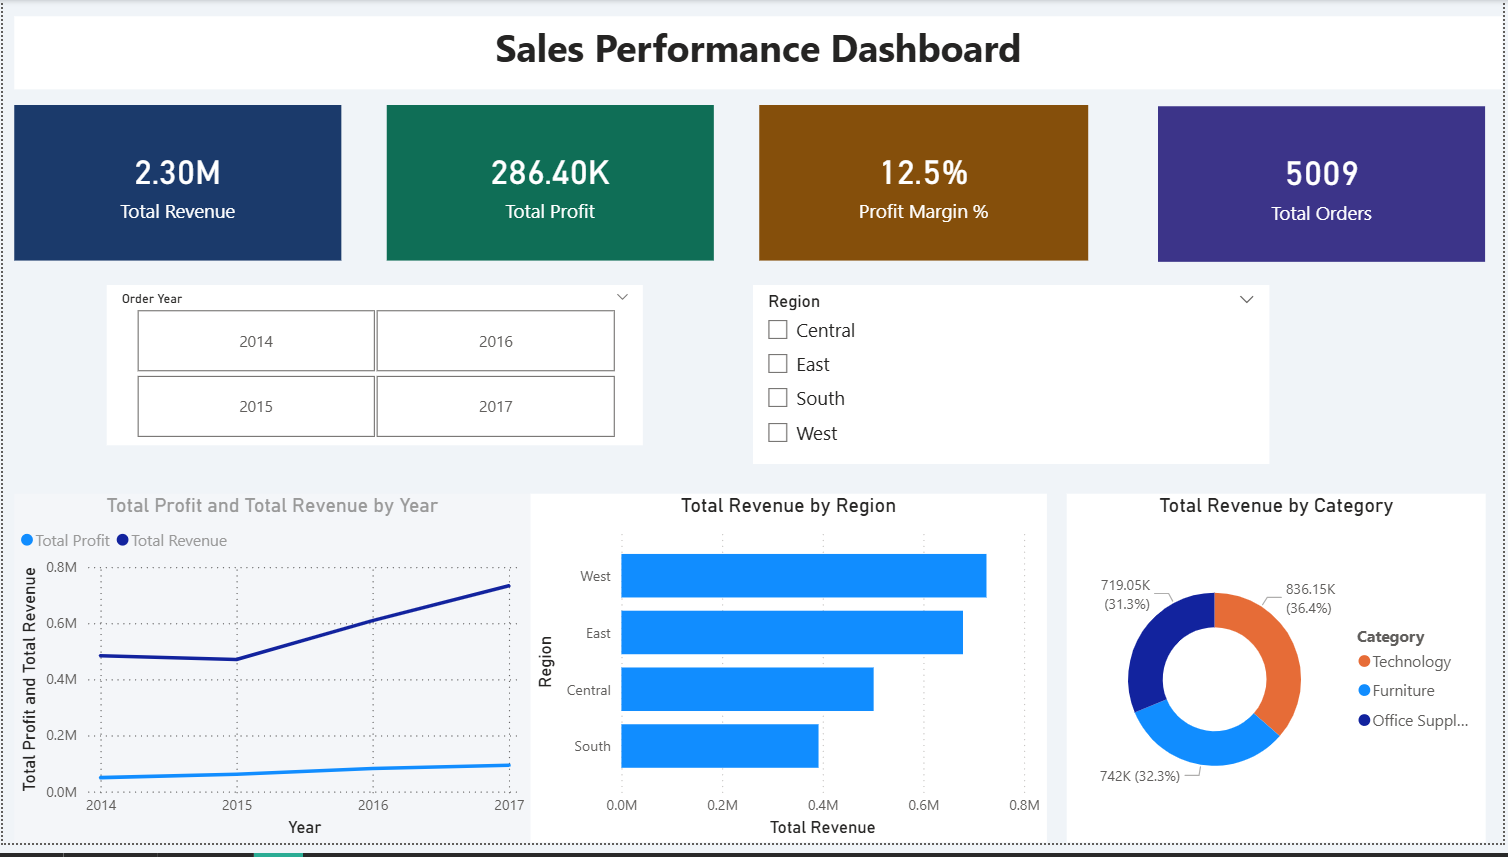

The dashboard page shown, as its layout file describes it:
{"tool":"powerbi","page":{"name":"Page 1","canvas":[1280,720],"ordinal":0},"visuals":[{"type":"card","fields":{"Values":["superstore_clean.Total Revenue"]},"box":[10,89.8,279.4,132.6],"z":0},{"type":"card","fields":{"Values":["superstore_clean.Total Profit"]},"box":[327.8,89.8,279.4,132.6],"z":1000},{"type":"card","fields":{"Values":["superstore_clean.Total Orders"]},"box":[986.4,91.2,279.4,132.6],"z":2000},{"type":"card","fields":{"Values":["superstore_clean.Profit Margin %"]},"box":[645.7,89.8,280.8,132.6],"z":3000},{"type":"lineChart","fields":{"Y":["superstore_clean.Total Profit","superstore_clean.Total Revenue"],"Category":["superstore_clean.Order Date.Variation.Date Hierarchy.Year","superstore_clean.Order Date.Variation.Date Hierarchy.Quarter","superstore_clean.Order Date.Variation.Date Hierarchy.Month","superstore_clean.Order Date.Variation.Date Hierarchy.Day"]},"box":[10,421.9,440.4,297.9],"z":4000},{"type":"clusteredBarChart","fields":{"Category":["superstore_clean.Region"],"Y":["superstore_clean.Total Revenue"]},"box":[450.4,421.9,440.4,297.9],"z":5000},{"type":"donutChart","fields":{"Category":["superstore_clean.Category"],"Y":["superstore_clean.Total Revenue"]},"box":[908,421.9,357.8,297.9],"z":6000},{"type":"slicer","fields":{"Values":["superstore_clean.Order Year"]},"box":[88.4,243.7,457.6,136.8],"z":7000},{"type":"slicer","fields":{"Values":["superstore_clean.Region"]},"box":[640,243.7,440.4,152.5],"z":8000},{"type":"textbox","box":[10,14.3,1270,62.7],"z":9000}]}

Visuals, with their boxes in screenshot pixels (x1, y1, x2, y2), scaled from the page's 1280x720 canvas onto the 1508x857 screenshot:
card - superstore_clean.Total Revenue: l=12, t=107, r=341, b=265
card - superstore_clean.Total Profit: l=386, t=107, r=715, b=265
card - superstore_clean.Total Orders: l=1162, t=109, r=1491, b=266
card - superstore_clean.Profit Margin %: l=761, t=107, r=1092, b=265
lineChart - superstore_clean.Total Profit x superstore_clean.Total Revenue: l=12, t=502, r=531, b=856
clusteredBarChart - superstore_clean.Region x superstore_clean.Total Revenue: l=531, t=502, r=1049, b=856
donutChart - superstore_clean.Category x superstore_clean.Total Revenue: l=1070, t=502, r=1491, b=856
slicer - superstore_clean.Order Year: l=104, t=290, r=643, b=453
slicer - superstore_clean.Region: l=754, t=290, r=1273, b=472
textbox: l=12, t=17, r=1507, b=92
